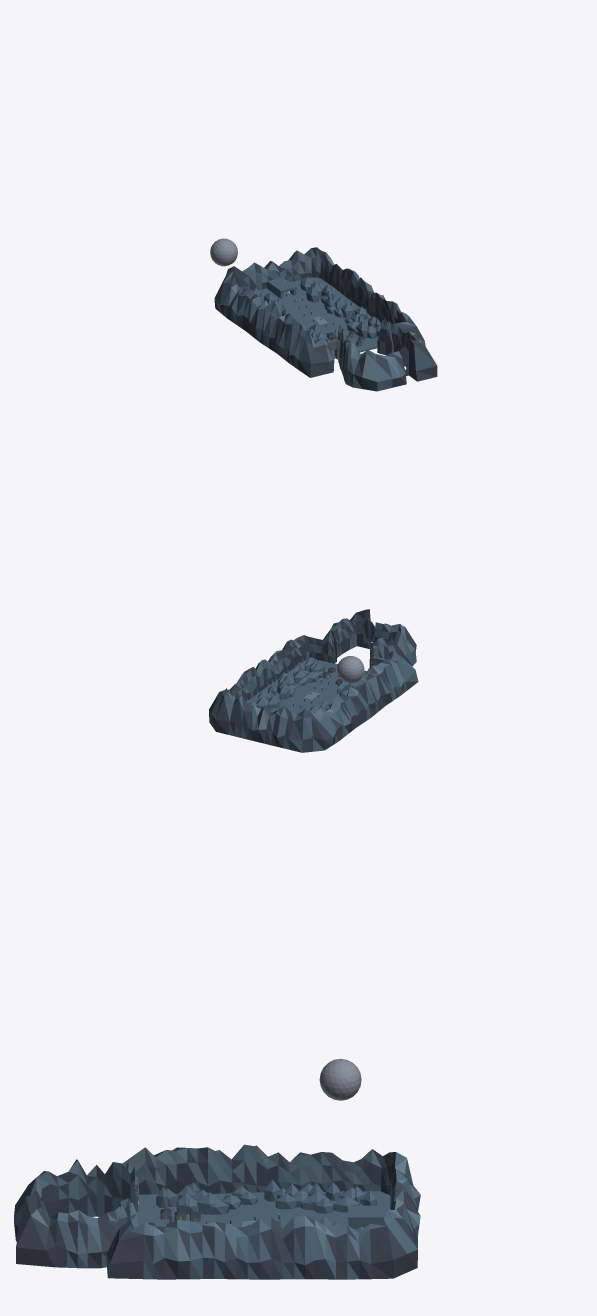
Rendered from outpost.glb.
The picture shows the model from 3 angles, top to bottom: view 1: azimuth 30°, elevation 25°; view 2: azimuth 150°, elevation 25°; view 3: azimuth 270°, elevation 25°; orthographic projection. The views are drawn at different scales.
Parts seen in each view (by area): view 1: Perimeter solid Shelf cliffs, Perimeter solid Basin west cliffs, Ice shelf, Charon; view 2: Perimeter solid Shelf cliffs, Ice shelf, Perimeter solid Basin west cliffs, Charon; view 3: Perimeter solid Shelf cliffs, Perimeter solid Basin west cliffs, Ice shelf, Charon.
Boxes of the visible parts, <box> form: Perimeter solid Shelf cliffs: <box>214,247,437,381</box>; Perimeter solid Basin west cliffs: <box>338,325,406,391</box>; Ice shelf: <box>259,277,378,358</box>; Charon: <box>210,238,237,266</box>; Perimeter solid Shelf cliffs: <box>209,609,418,752</box>; Ice shelf: <box>246,659,366,714</box>; Perimeter solid Basin west cliffs: <box>369,622,416,669</box>; Charon: <box>337,656,364,683</box>; Perimeter solid Shelf cliffs: <box>16,1144,420,1279</box>; Perimeter solid Basin west cliffs: <box>14,1159,135,1241</box>; Ice shelf: <box>136,1191,390,1229</box>; Charon: <box>319,1058,361,1100</box>.
Bounding box in the file's own units: 440 × 202 × 352.
